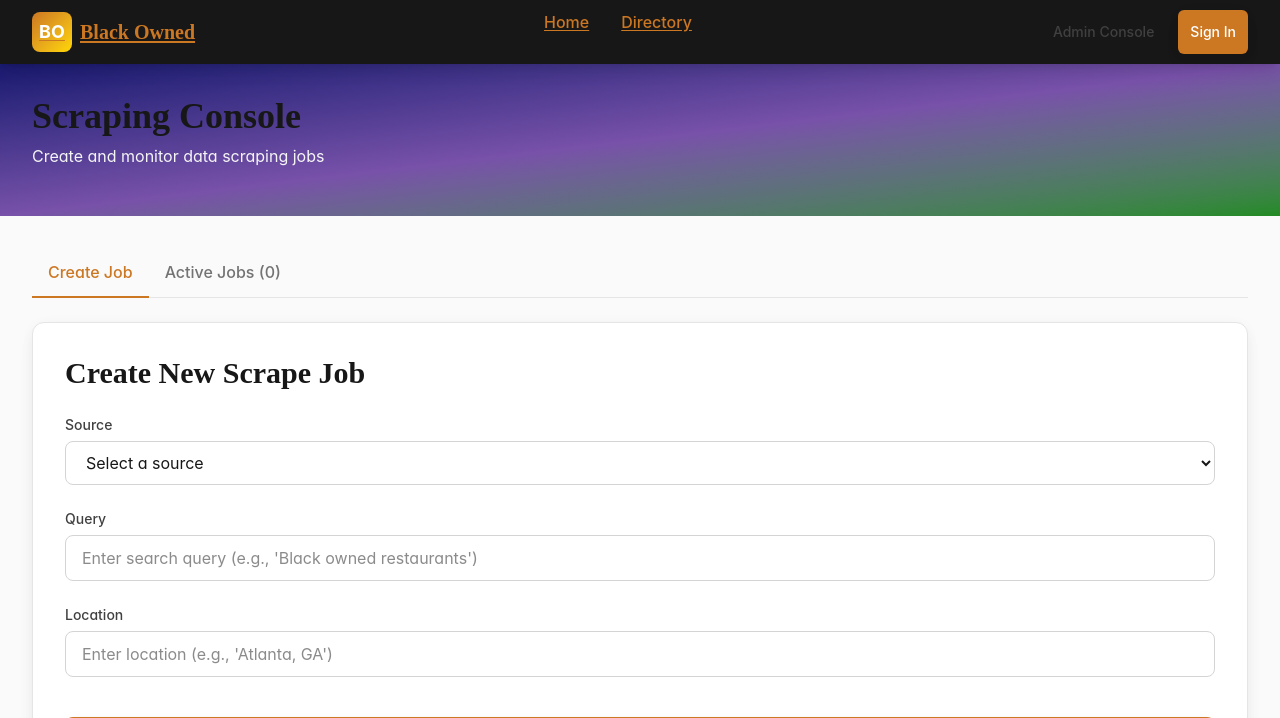
Test: ScrapeJobPage › shows source validation error when source is not selected
This screenshot has width=1280, height=718.
In the field with placeholder "Enter search query (e.g., 'Black owned restaurants')": (640,558) [65,535,1215,581], type "test query"
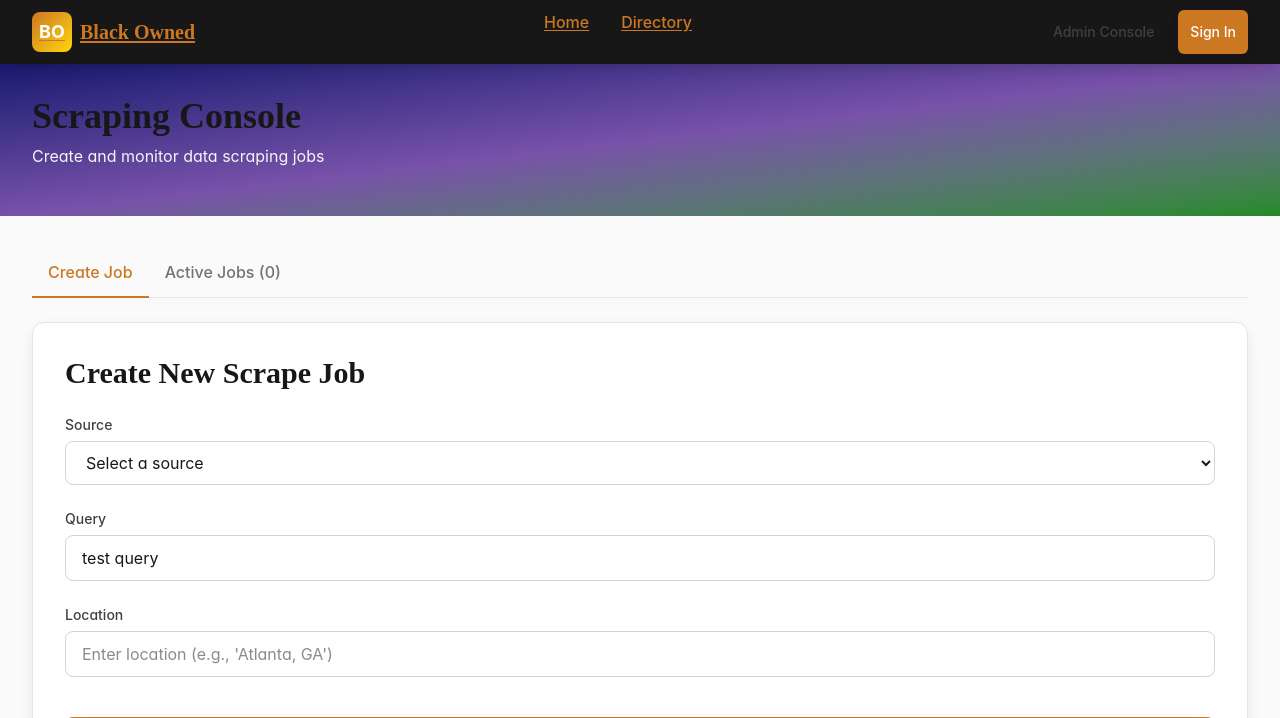
In the field with placeholder "Enter location (e.g., 'Atlanta, GA')": (640,654) [65,631,1215,677], type "test location"
(page scrolled)
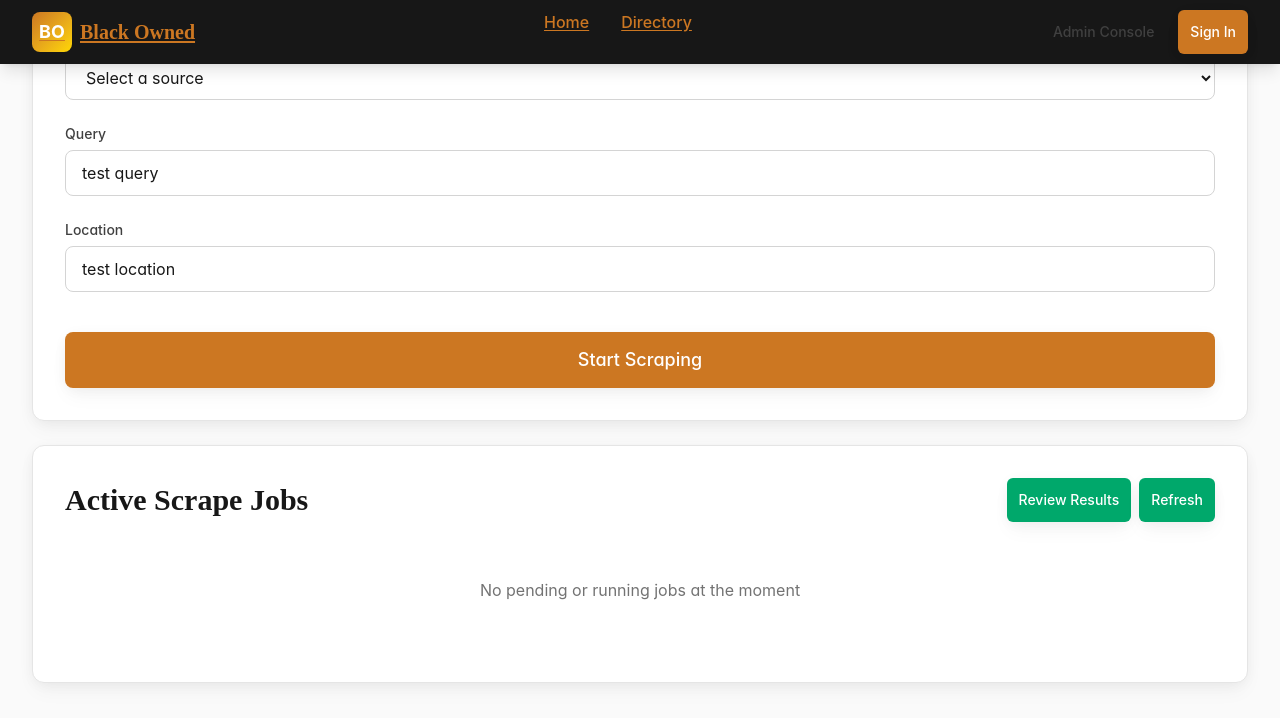
Click the button "Start Scraping": (640,360) [65,332,1215,388]
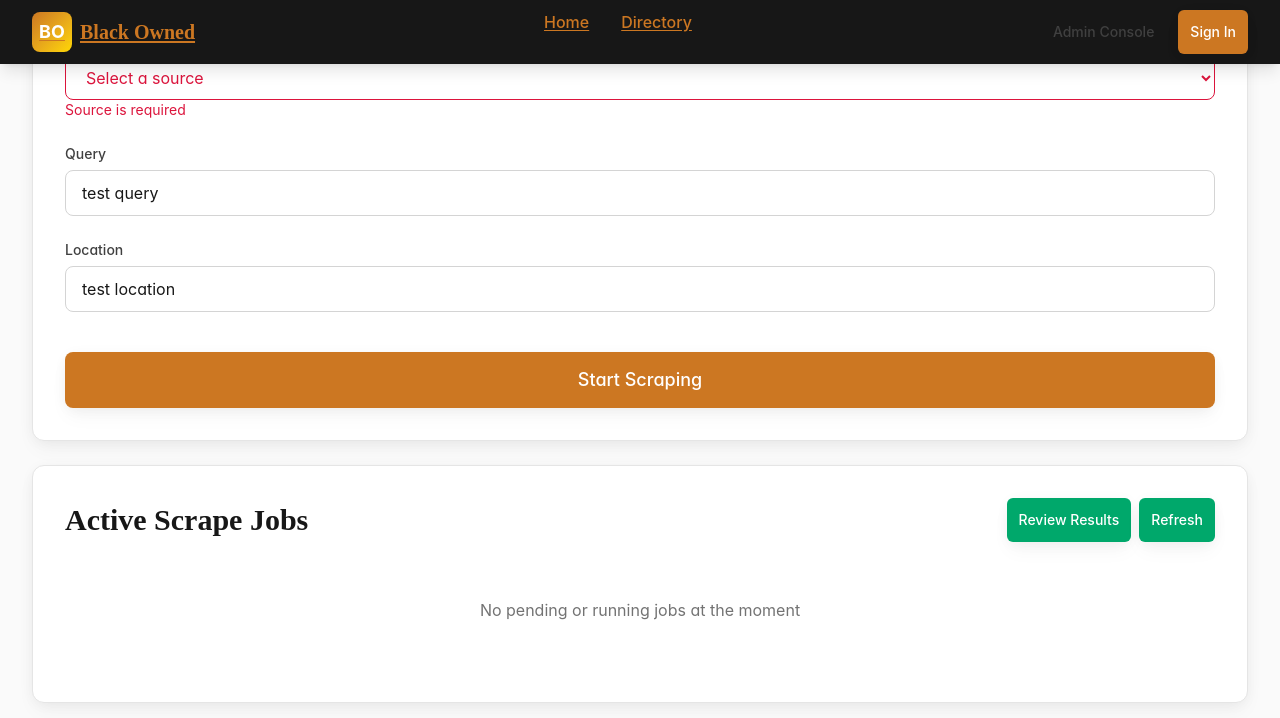
expect the text "Source is required" is shown: met, box [65,101,186,118]
